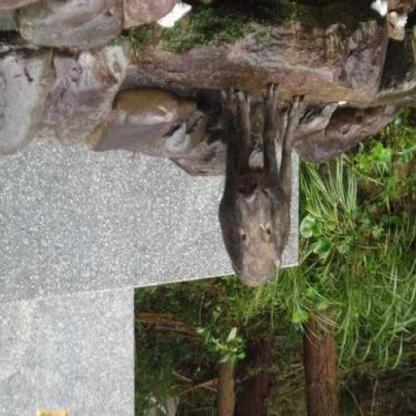boar: (197, 72, 311, 311)
